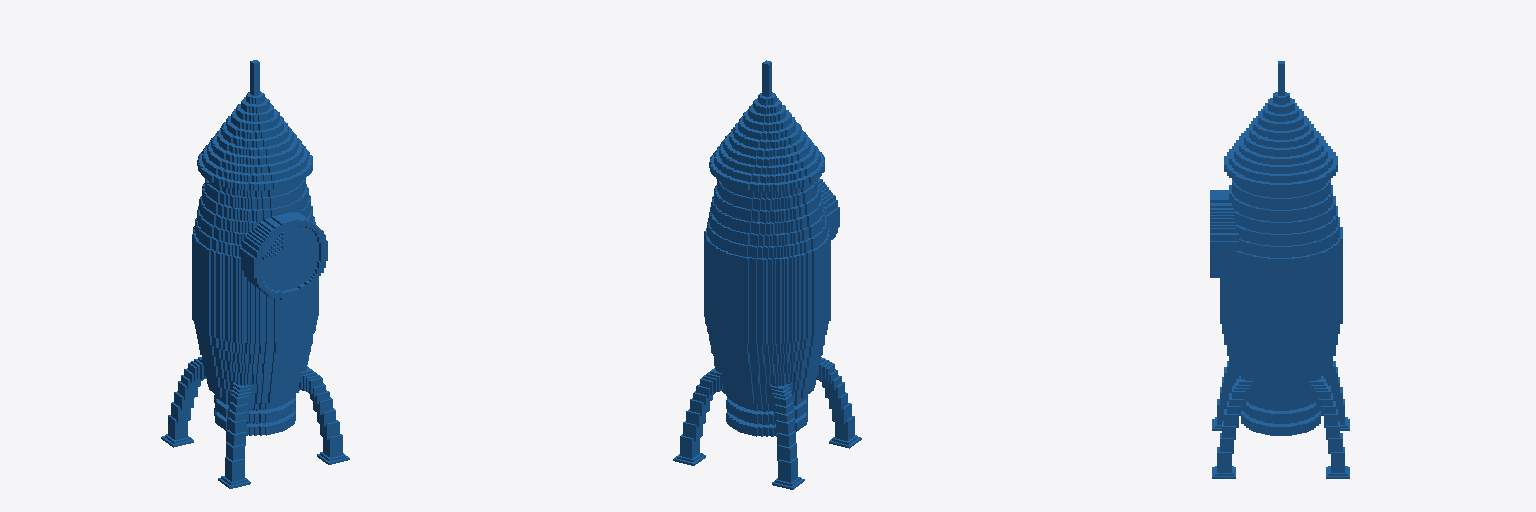
The picture shows the model from 3 angles: view 1: azimuth 30°, elevation 25°; view 2: azimuth 150°, elevation 25°; view 3: azimuth 270°, elevation 25°; orthographic projection.
Parts seen in each view (by area): view 1: object 1; view 2: object 1; view 3: object 1.
Boxes of the visible parts, <box> form: object 1: <box>161,60,349,488</box>; object 1: <box>673,60,861,489</box>; object 1: <box>1210,61,1349,478</box>.
Size of the model in its own units: 5.7 by 17.7 by 5.8.
1 materials, 1 textured.